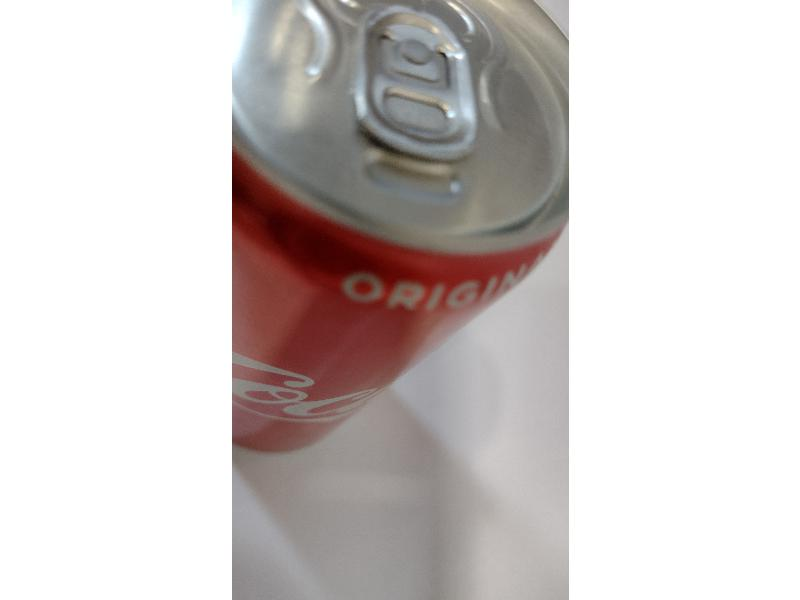can: (234, 0, 568, 457)
